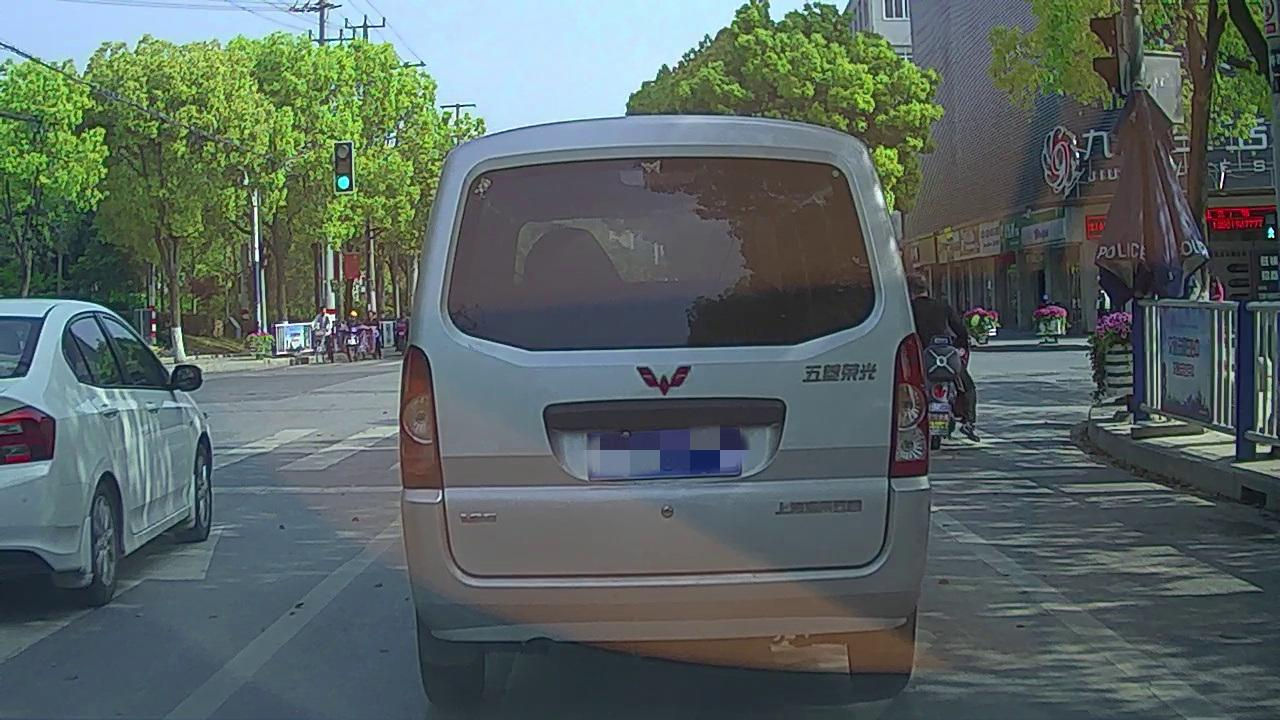traffic_light: (335, 143, 353, 191)
